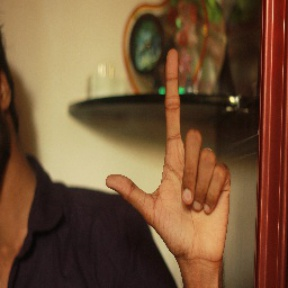L: (105, 47, 233, 260)
